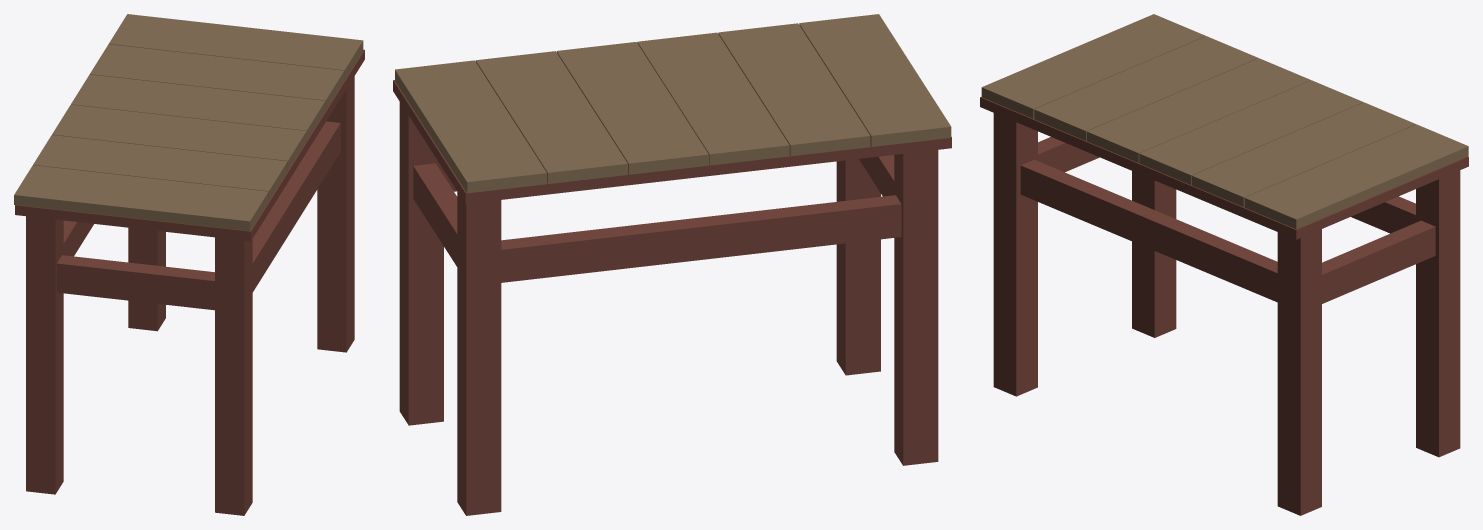
Rendered from Mesa de la cena.fbx.
3 renders of one model, left to right at view 1: azimuth 30°, elevation 25°; view 2: azimuth 150°, elevation 25°; view 3: azimuth 270°, elevation 25°, orthographic. The views are drawn at different scales.
Visible parts, largest first — view 1: mesa; view 2: mesa; view 3: mesa.
Boxes of the visible parts, <box> form: mesa: <box>14,14,364,515</box>; mesa: <box>393,14,951,515</box>; mesa: <box>980,14,1468,515</box>.
Bounding box in the file's own units: 278 × 188 × 279.
